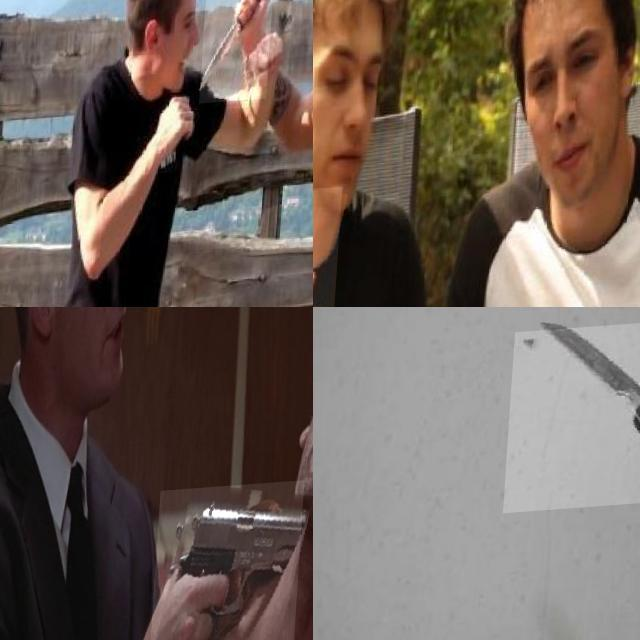-: (508, 322, 640, 517), (202, 0, 277, 108), (313, 190, 351, 307)
gun-knife-thesis - v11 Yolov5 augmented: (151, 486, 309, 640)
